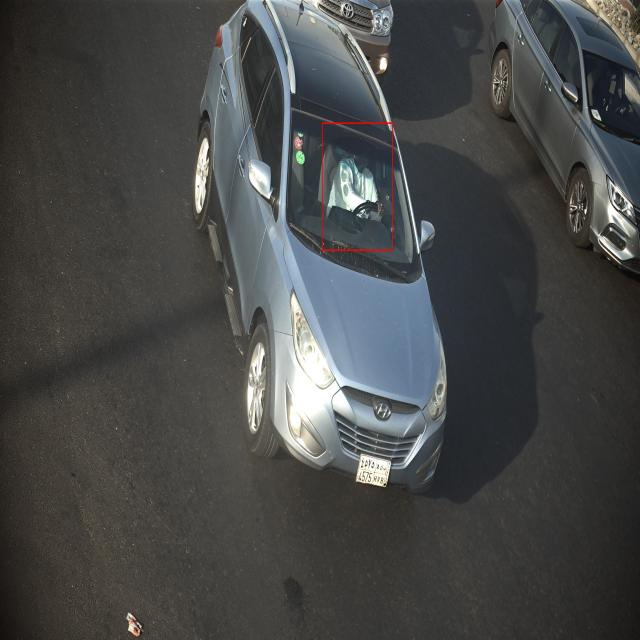windshield: (285, 93, 425, 300), (581, 46, 640, 152)
